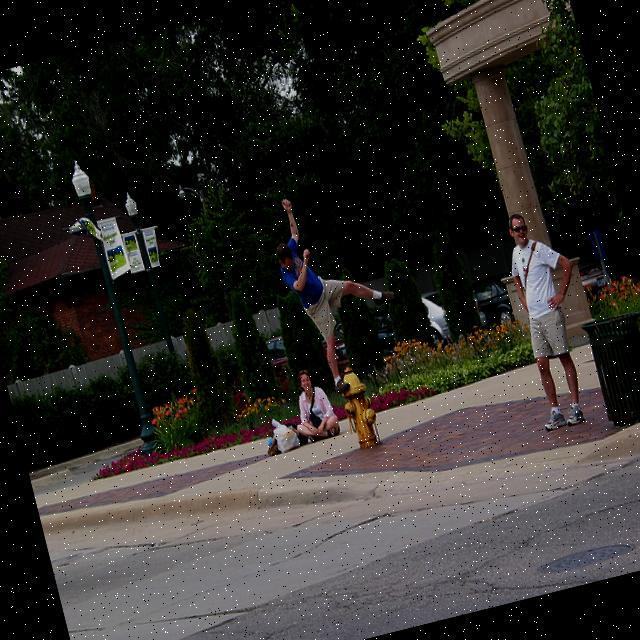fire_hydrant: (334, 362, 382, 451)
